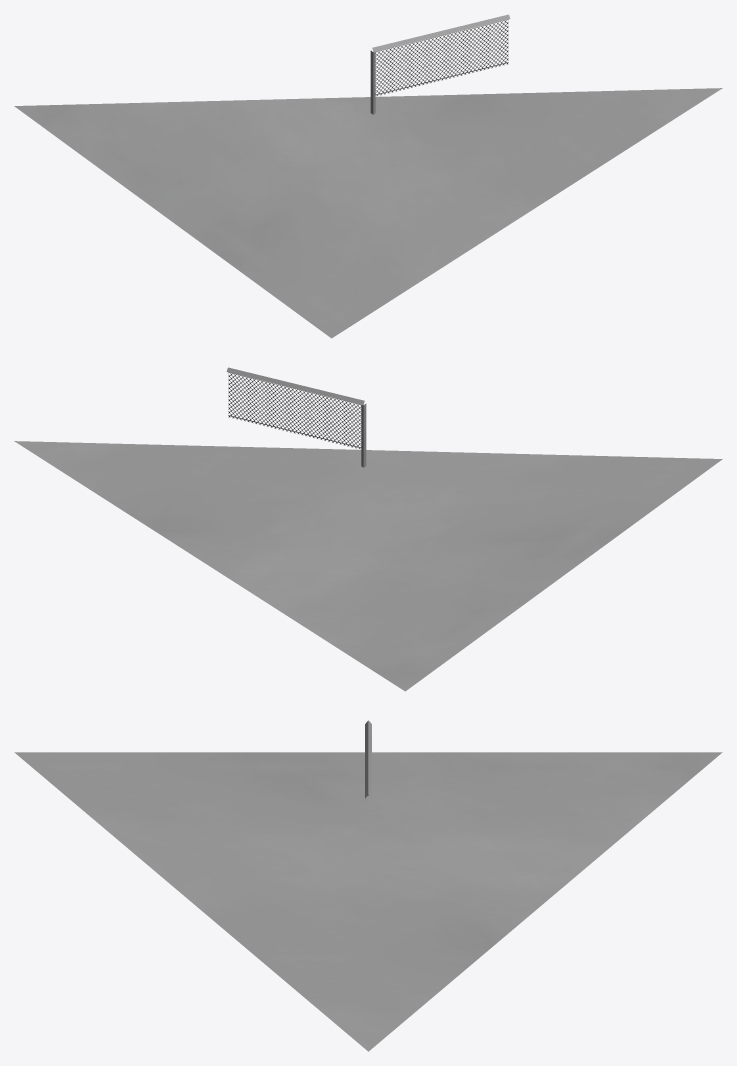
The model's file is fence-chainlink-1rail-1s-cbj_LOD01.gltf.
The picture shows the model from 3 angles, top to bottom: view 1: azimuth 30°, elevation 25°; view 2: azimuth 150°, elevation 25°; view 3: azimuth 270°, elevation 25°; orthographic projection. The views are drawn at different scales.
Visible parts, largest first — view 1: chainlink01; view 2: chainlink01; view 3: chainlink01.
Part boxes in pixels (x1=…): chainlink01: x1=14, y1=14, x2=722, y2=338; chainlink01: x1=14, y1=367, x2=722, y2=691; chainlink01: x1=14, y1=720, x2=722, y2=1051.
Size of the model in its own units: 11.57 by 2.53 by 11.57.
